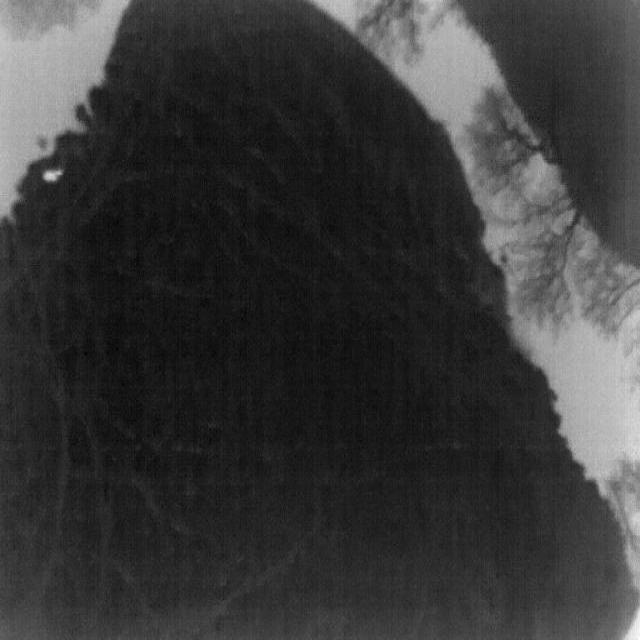deer: (42, 168, 64, 182)
